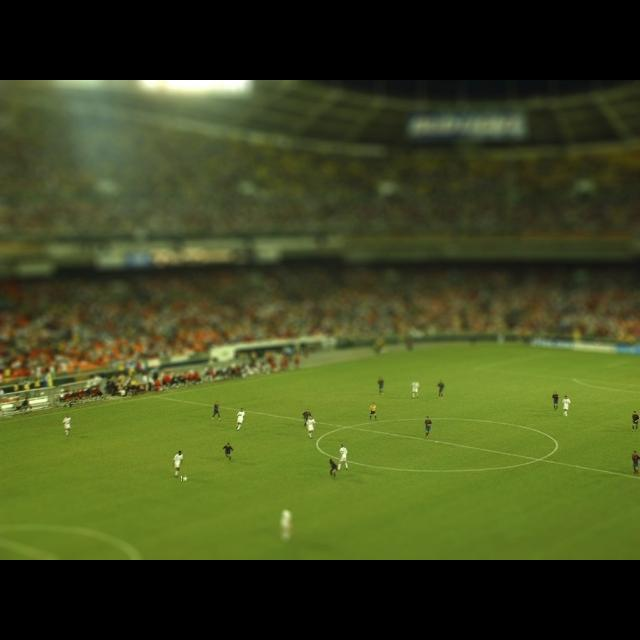Football: (182, 475, 186, 481)
